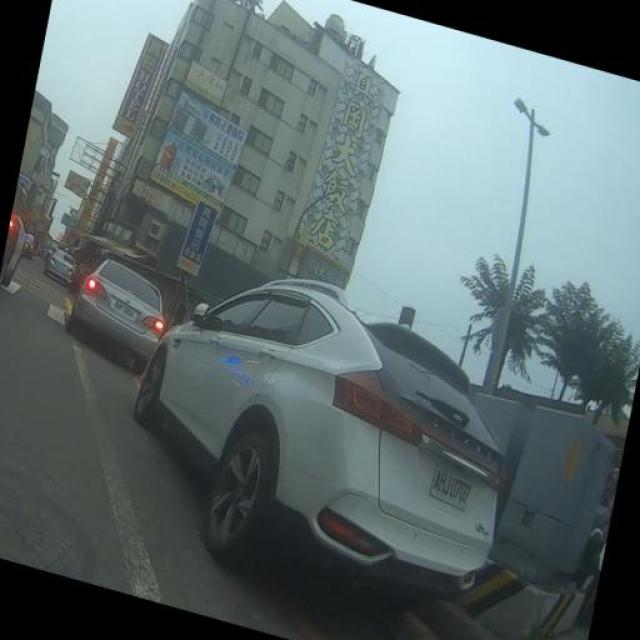illegalparking: (136, 249, 548, 615)
